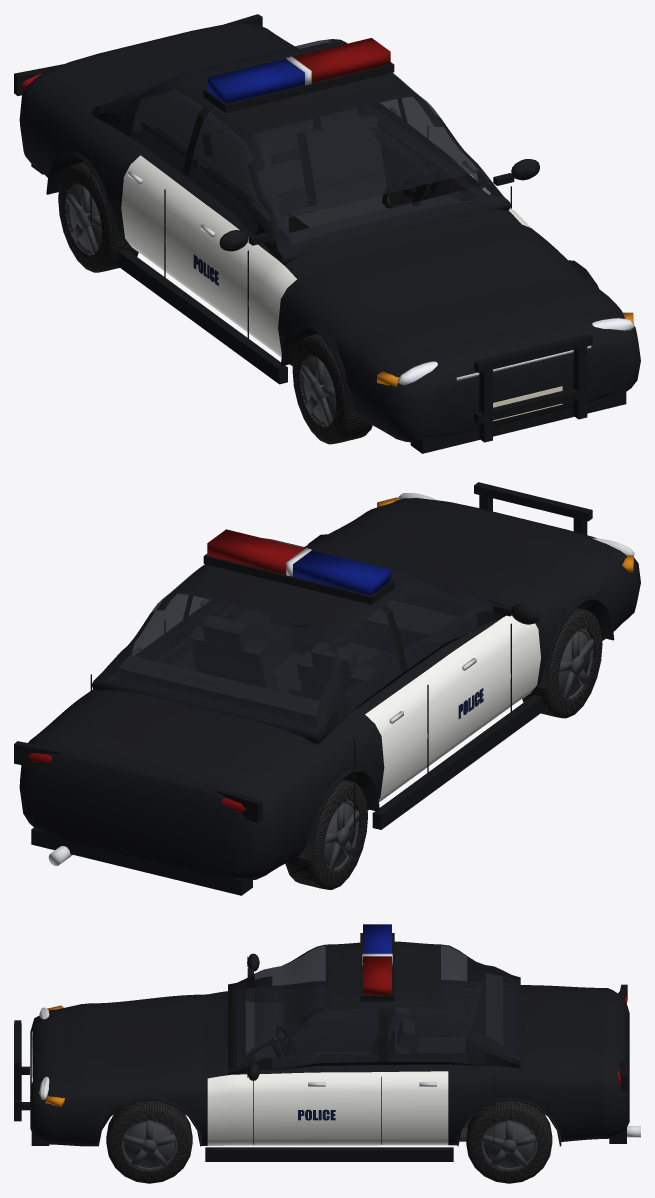
The model's file is car_police.glb.
3 views of the same model, one above another, from view 1: azimuth 30°, elevation 25°; view 2: azimuth 150°, elevation 25°; view 3: azimuth 270°, elevation 25° (orthographic). The views are drawn at different scales.
Parts seen in each view (by area): view 1: Body, wheel_FR, wheel_RR, Door_L; view 2: Body, wheel_RR, wheel_FR; view 3: Body, Door_L, wheel_FL, wheel_RL.
Boxes of the visible parts, x1=… form: Body: x1=14, y1=14, x2=640, y2=453; wheel_FR: x1=292, y1=334, x2=372, y2=444; wheel_RR: x1=58, y1=162, x2=138, y2=272; Door_L: x1=392, y1=72, x2=512, y2=196; Body: x1=14, y1=482, x2=640, y2=895; wheel_RR: x1=285, y1=779, x2=367, y2=889; wheel_FR: x1=522, y1=608, x2=602, y2=718; Body: x1=14, y1=924, x2=640, y2=1161; Door_L: x1=254, y1=1007, x2=380, y2=1142; wheel_FL: x1=106, y1=1101, x2=192, y2=1183; wheel_RL: x1=466, y1=1101, x2=552, y2=1183.
Size of the model in its own units: 2.24 by 1.58 by 4.95.
Materials: 16 (1 with a texture image).
